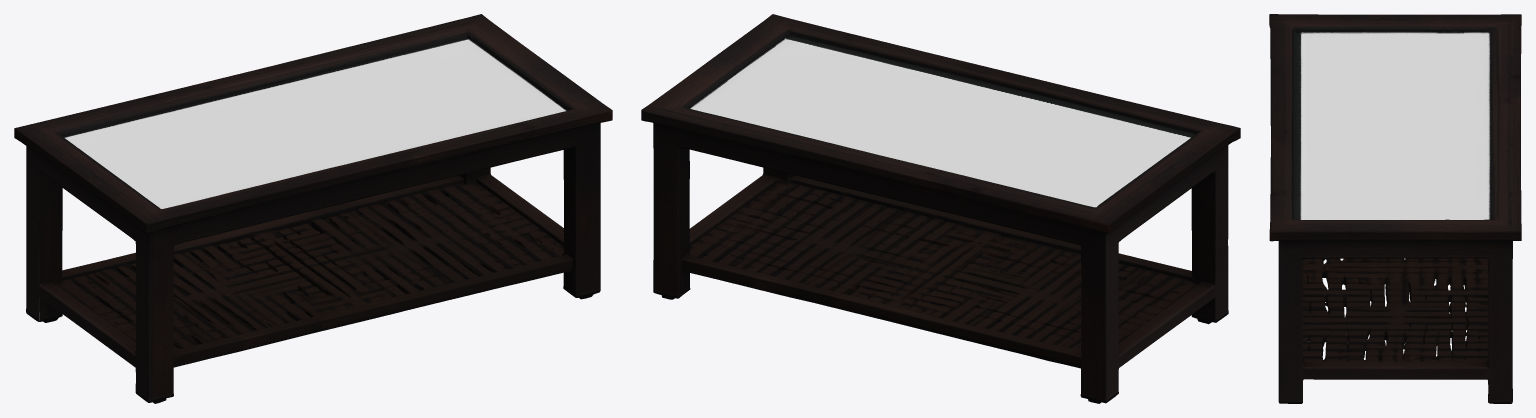
3 renders of one model, left to right at view 1: azimuth 30°, elevation 25°; view 2: azimuth 150°, elevation 25°; view 3: azimuth 270°, elevation 25°, orthographic. The views are drawn at different scales.
Visible parts, largest first — view 1: world; view 2: world; view 3: world.
Part boxes in pixels (<box>): world: <box>14,14,612,403</box>; world: <box>641,14,1240,403</box>; world: <box>1269,14,1521,403</box>.
Bounding box in the file's own units: 1 × 0.3848 × 0.4893.
Materials: 1 (1 with a texture image).
